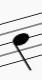note: (9, 12, 37, 72)
